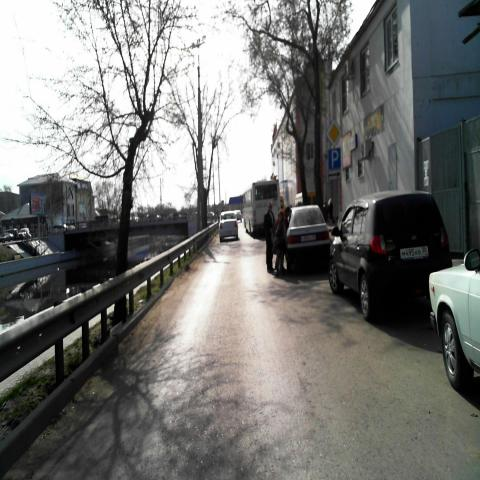8_3_1: (328, 169, 342, 179)
